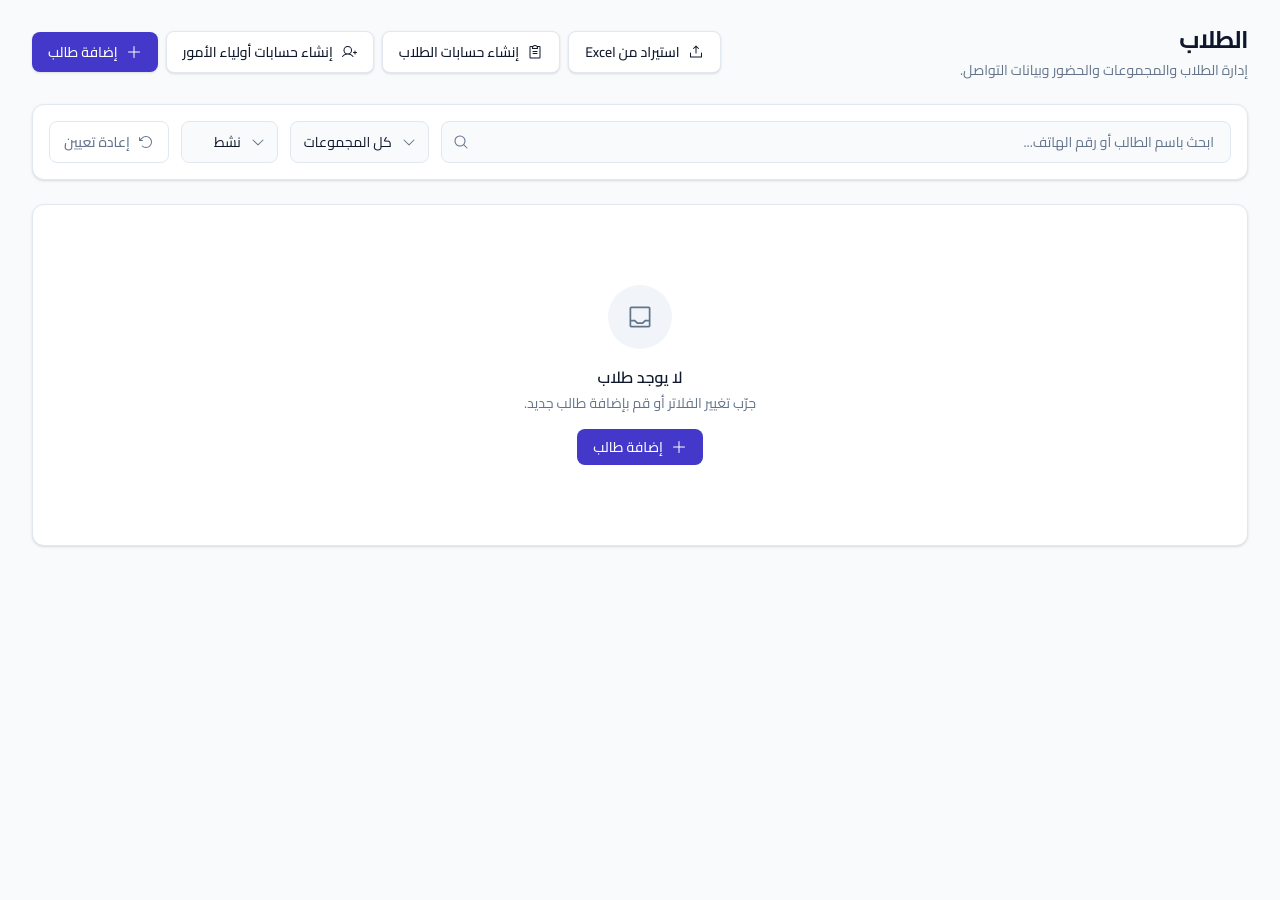
Test case: StudentManagement import button › يظهر زر استيراد من Excel ويُفتح المعالج عند الضغط
Click the button "استيراد من Excel" at [644, 52], box [568, 31, 721, 73]
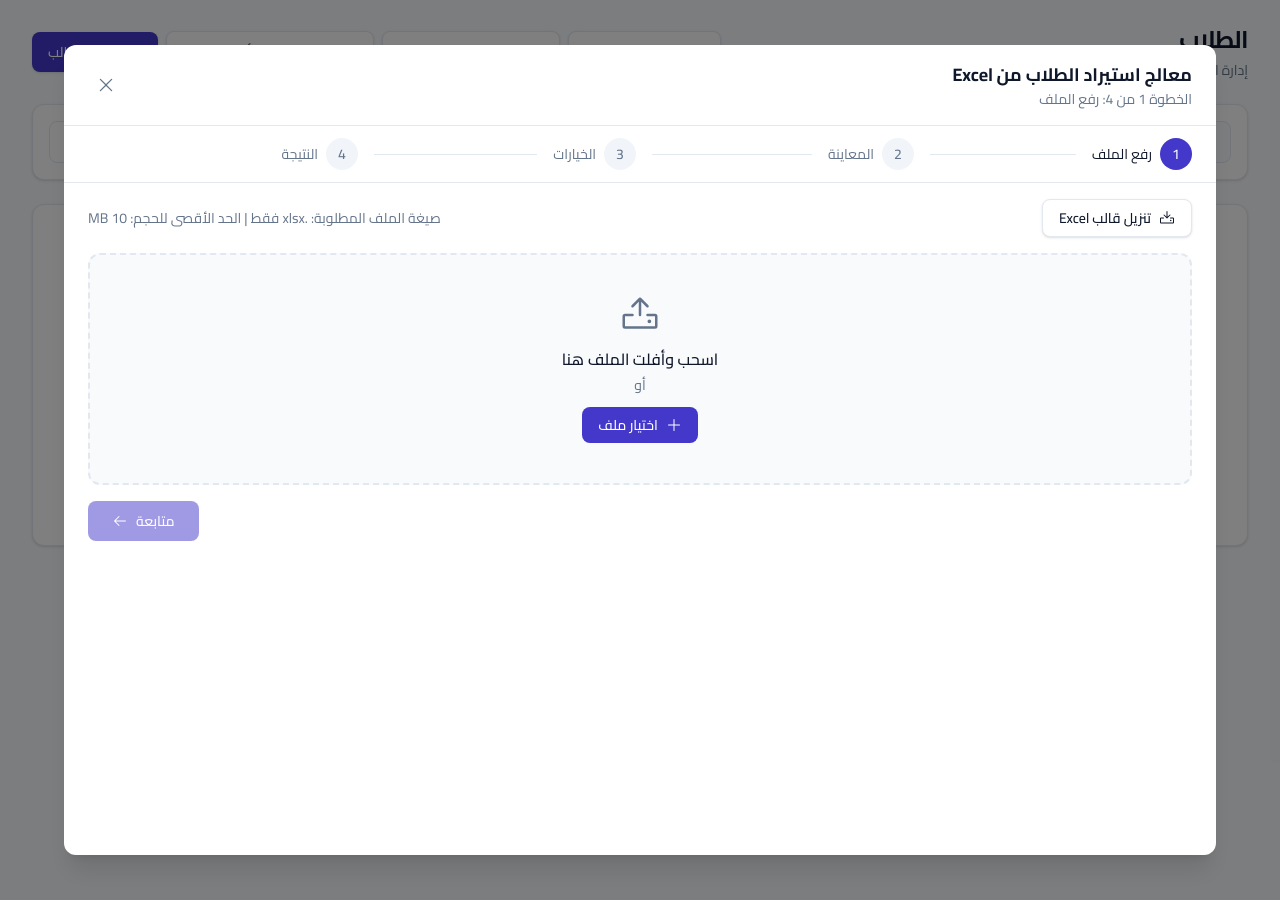
Expected: the text "معالج استيراد الطلاب من Excel" is shown, [952, 61, 1192, 89]
